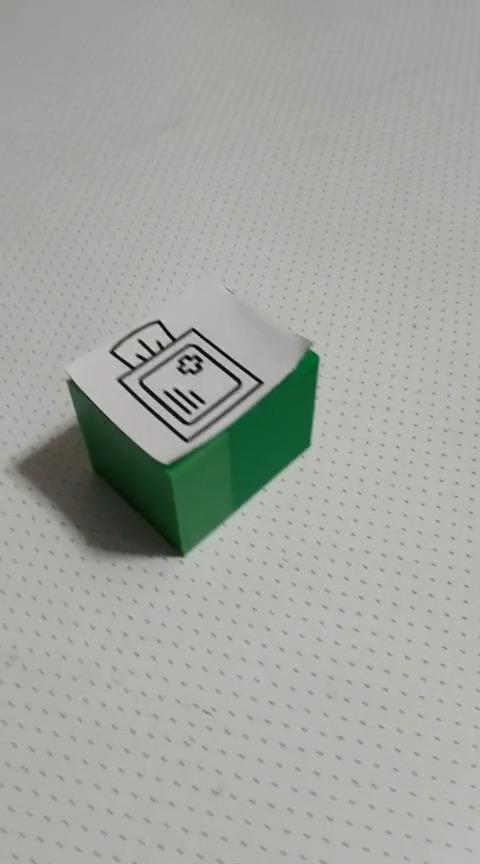Gauze: (62, 275, 320, 557)
